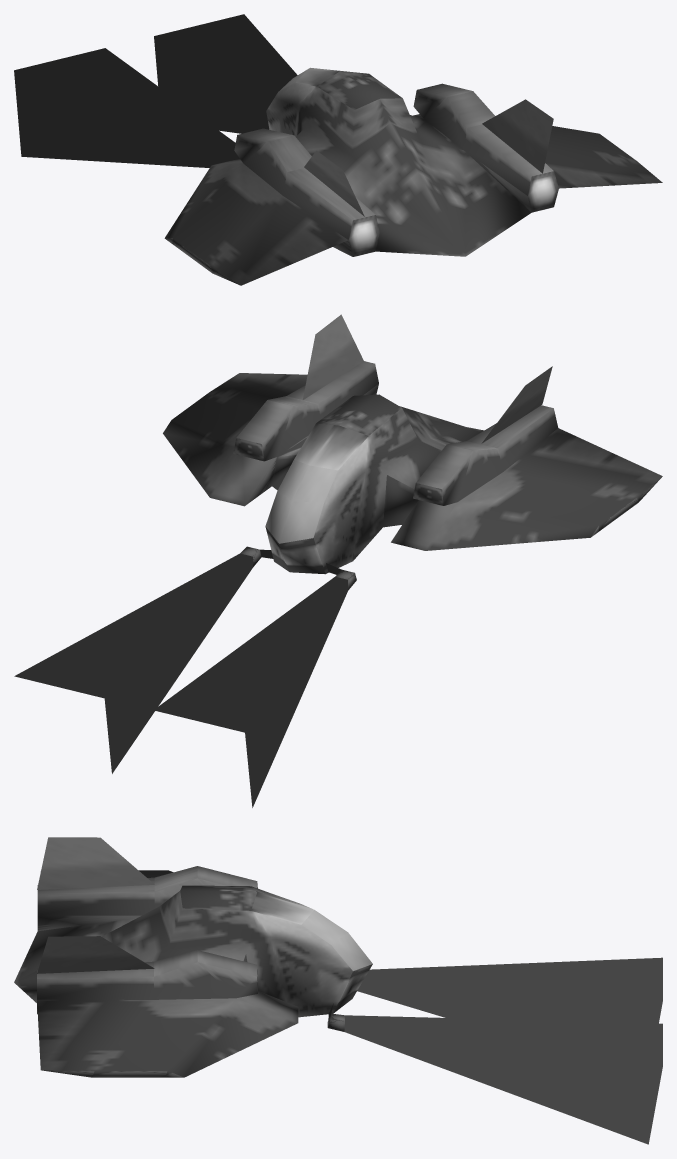
The model's file is warden.glb.
3 renders of one model, top to bottom at view 1: azimuth 30°, elevation 25°; view 2: azimuth 150°, elevation 25°; view 3: azimuth 270°, elevation 25°, orthographic. The views are drawn at different scales.
Visible parts, largest first — view 1: root; view 2: root; view 3: root.
Boxes of the visible parts, bbox=[...] form: root: bbox=[14, 14, 662, 285]; root: bbox=[14, 314, 662, 807]; root: bbox=[14, 837, 662, 1144].
Bounding box in the file's own units: 3.52 × 1.67 × 4.8.
1 material, 1 textured.
